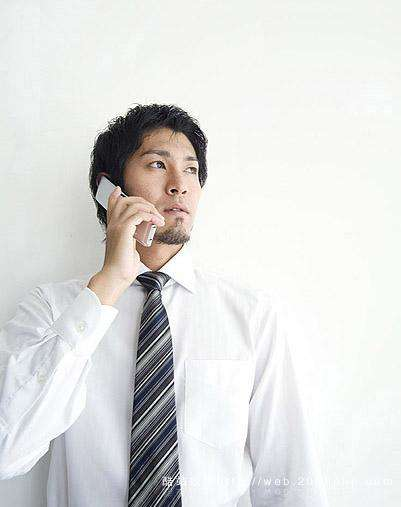calling: (93, 176, 167, 280)
